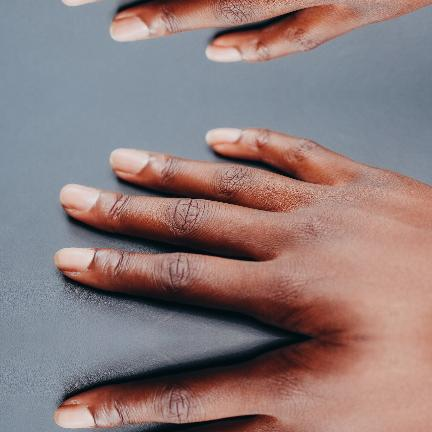Nail: (59, 183, 101, 210), (109, 147, 149, 173), (109, 15, 149, 41), (54, 247, 94, 272), (54, 403, 94, 428), (206, 126, 242, 143), (206, 45, 242, 62), (61, 0, 98, 5)
